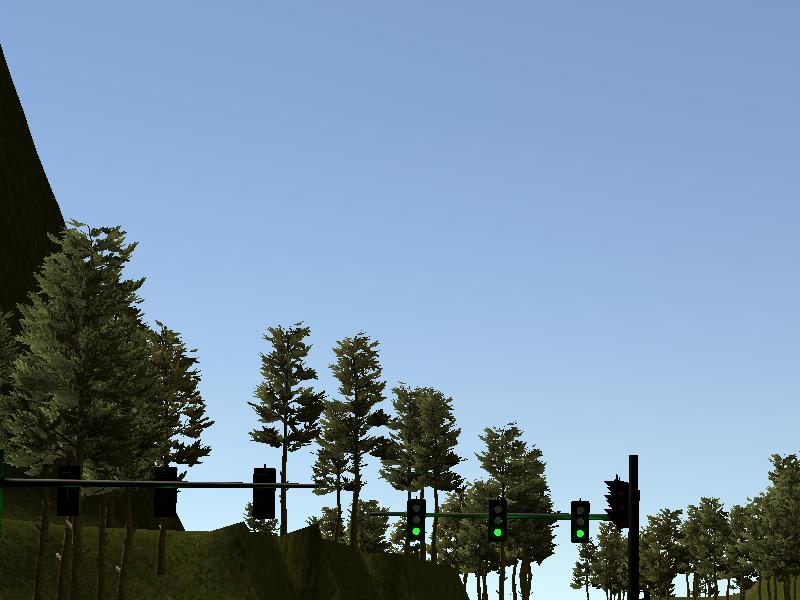Green: (488, 500, 508, 542), (570, 501, 590, 543), (407, 499, 425, 541)
